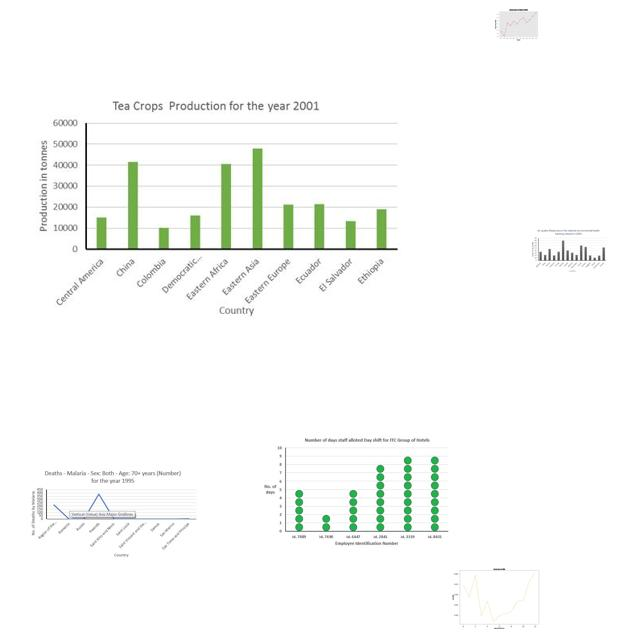Graph: (29, 95, 404, 318), (260, 436, 452, 549), (29, 467, 198, 560), (447, 562, 549, 632), (530, 228, 607, 273), (493, 5, 543, 43)
